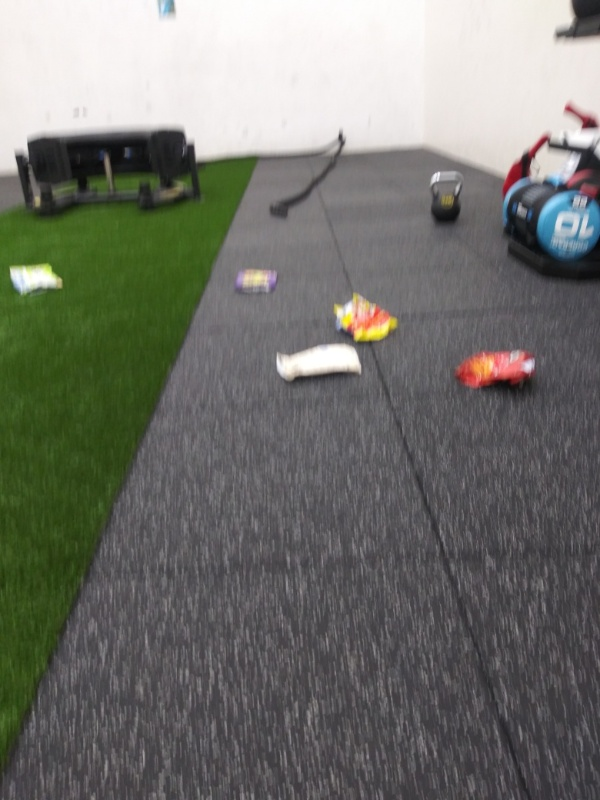bag: (324, 290, 408, 347), (453, 347, 545, 397), (269, 340, 364, 385), (5, 256, 68, 298), (229, 263, 286, 298)
